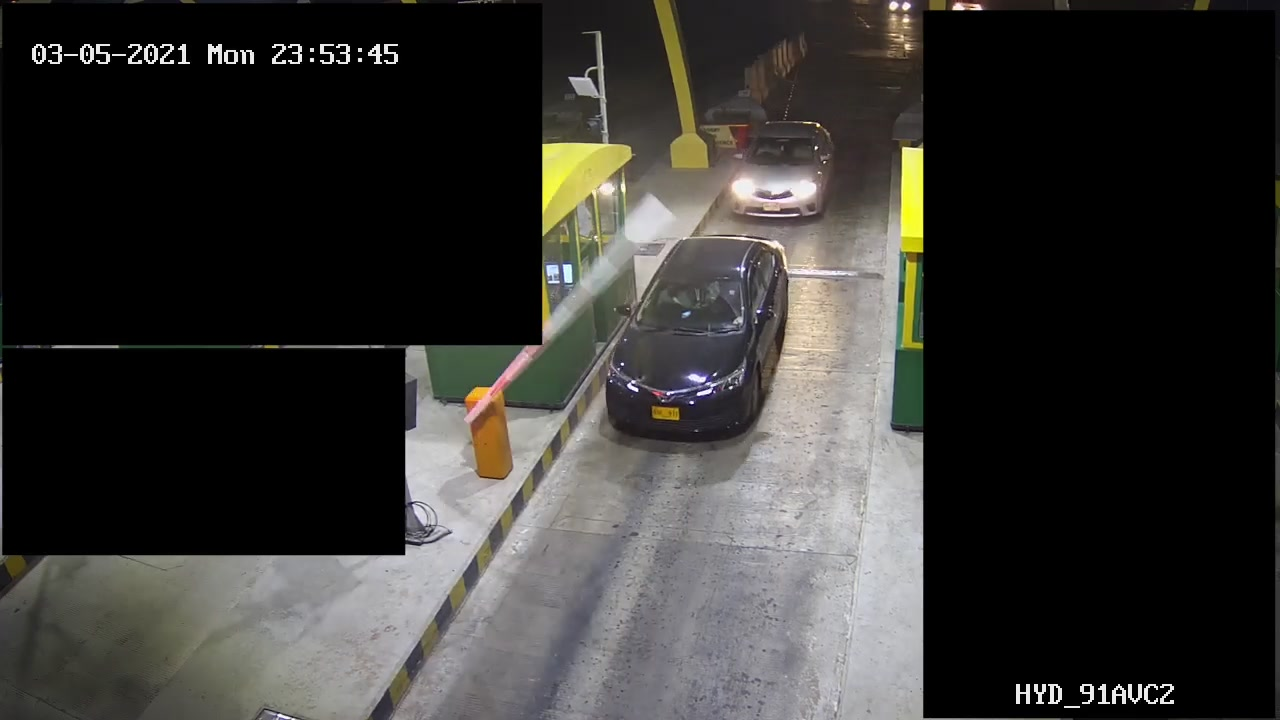F1: (598, 236, 793, 449), (722, 123, 843, 223)
